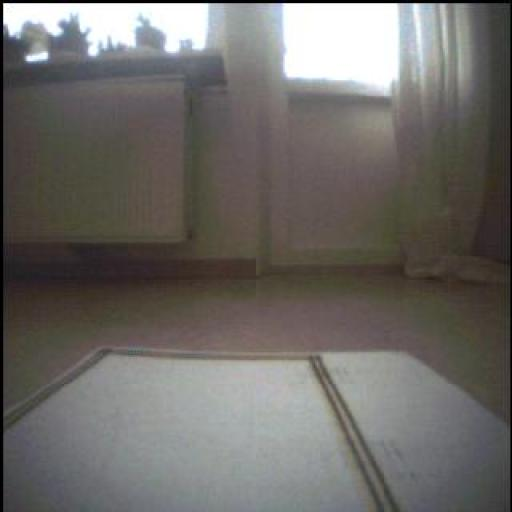Pad: (1, 345, 512, 512)
